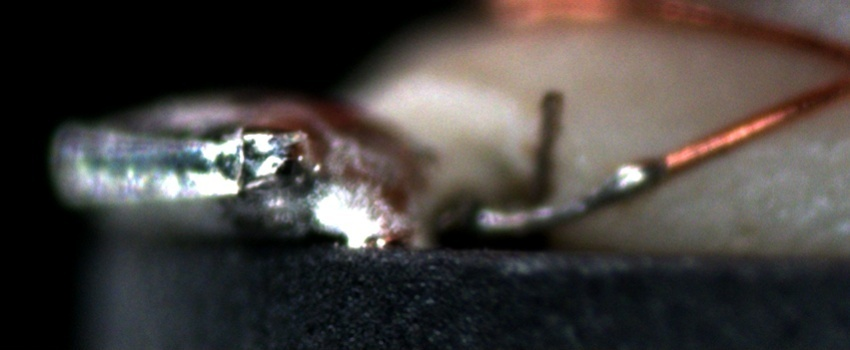DL: (727, 128, 849, 171)
TB: (604, 158, 663, 205)
TS: (473, 160, 663, 230)
TTCW: (466, 133, 727, 238)
